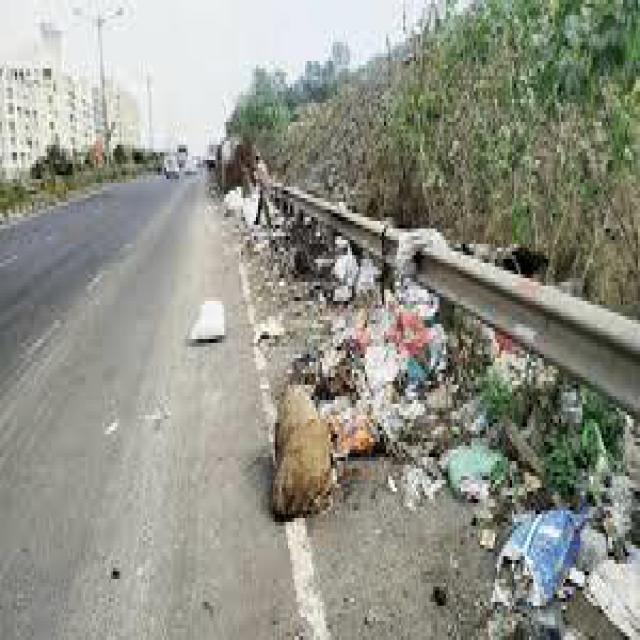garbage: (256, 259, 480, 575), (427, 339, 638, 636), (220, 168, 273, 262), (186, 290, 239, 354)
